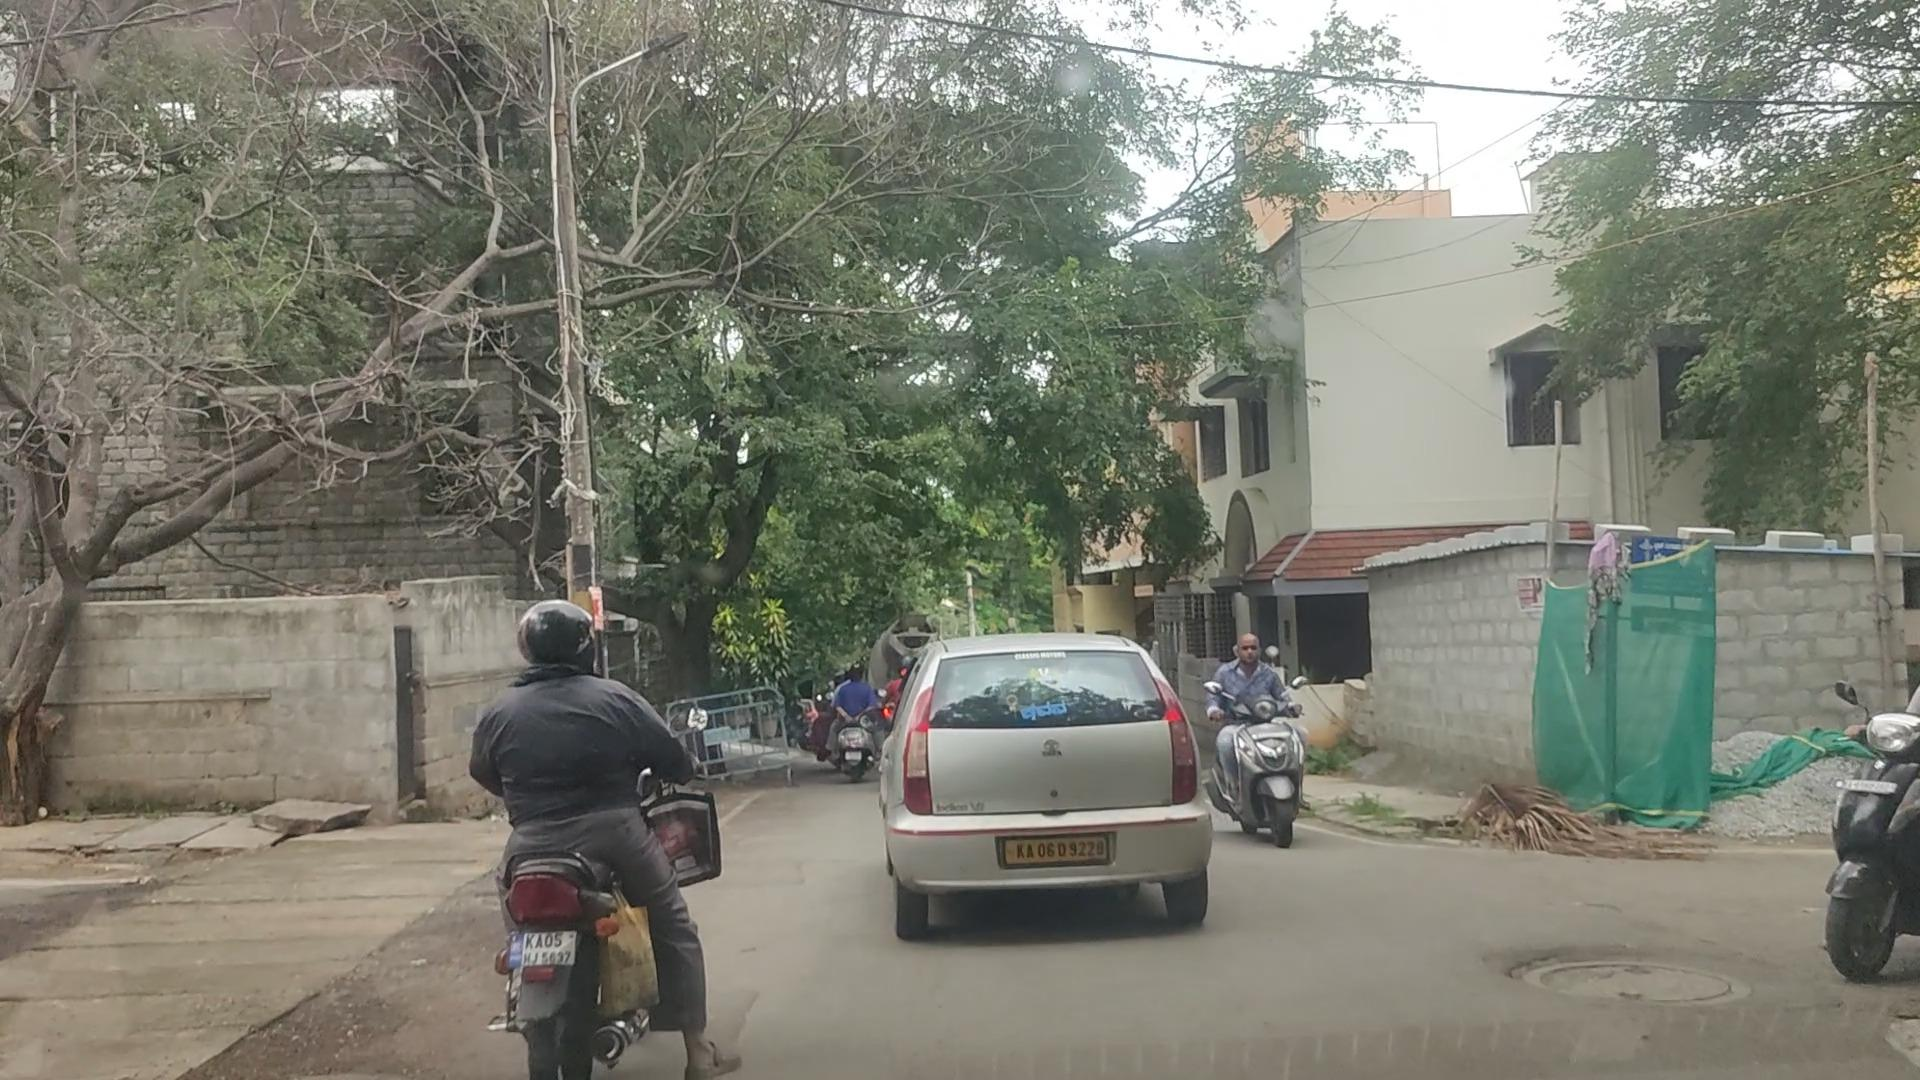LMV: (872, 641, 1207, 961), (475, 611, 692, 1080)
RoadDamages: (1444, 922, 1766, 1059)
